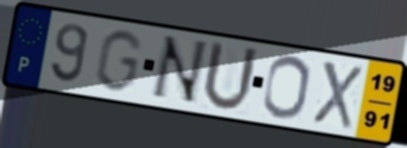9: (49, 22, 90, 84)
G: (91, 28, 145, 95)
N: (146, 33, 211, 107)
O: (260, 54, 312, 122)
U: (199, 38, 261, 114)
X: (310, 58, 364, 132)
